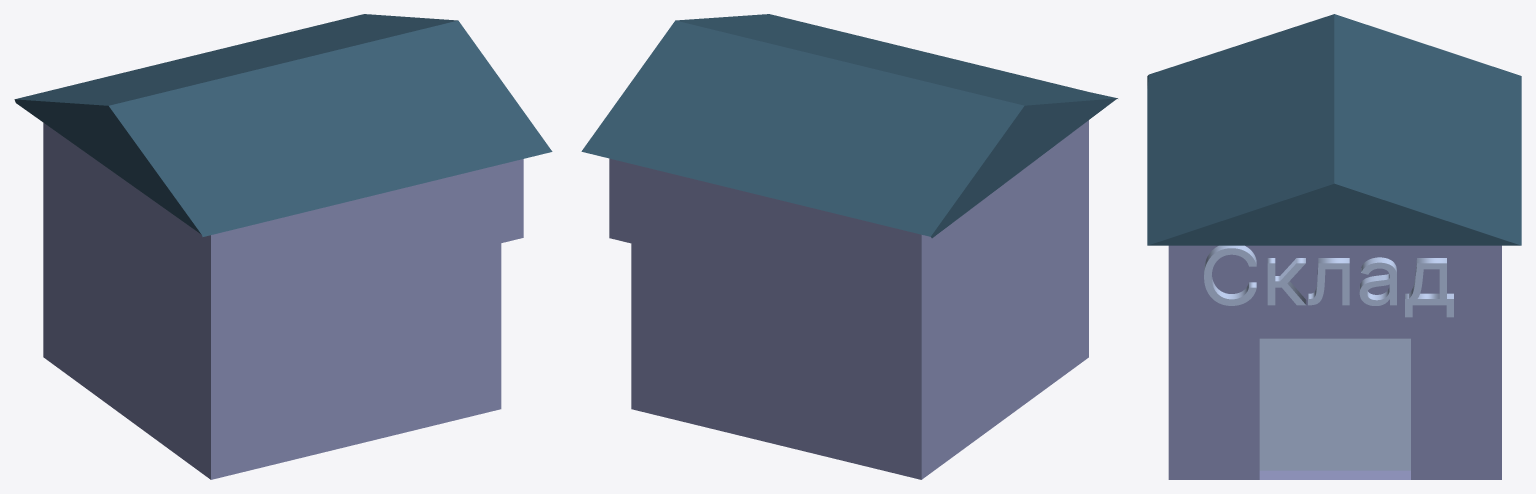
The model's file is warehouse_building.glb.
3 renders of one model, left to right at view 1: azimuth 30°, elevation 25°; view 2: azimuth 150°, elevation 25°; view 3: azimuth 270°, elevation 25°, orthographic.
Parts seen in each view (by area): view 1: Cube.002, Cube.003; view 2: Cube.002, Cube.003; view 3: Cube.003, Cube.002, Text.
Boxes of the visible parts, box(x1,y1,x2,y2) form: Cube.002: box(43, 123, 523, 479); Cube.003: box(14, 14, 552, 236); Cube.002: box(609, 120, 1088, 479); Cube.003: box(581, 14, 1117, 238); Cube.003: box(1147, 14, 1521, 245); Cube.002: box(1168, 245, 1501, 479); Text: box(1204, 245, 1453, 317).
Size of the model in its own units: 2.41 by 2.09 by 2.25.
